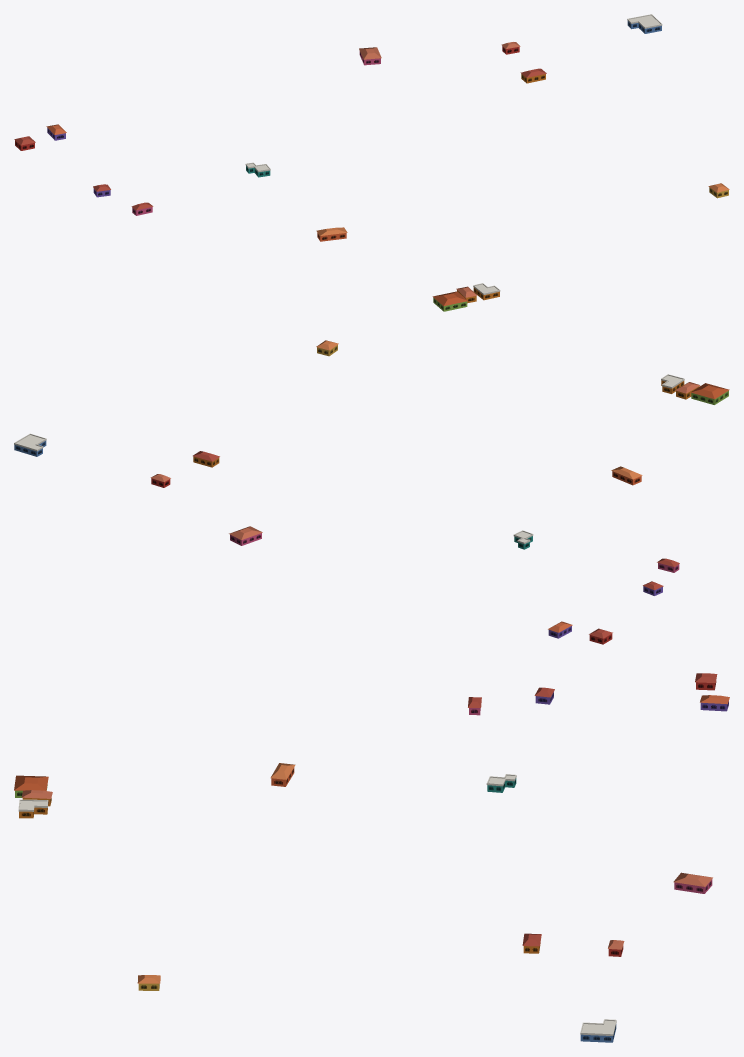
Rendered from msb_oranjestad_m17_m4.glb.
3 renders of one model, top to bottom at view 1: azimuth 30°, elevation 25°; view 2: azimuth 150°, elevation 25°; view 3: azimuth 270°, elevation 25°, orthographic. The views are drawn at different scales.
Parts seen in each view (by area): view 1: msb_oranjestad_m17_m4_lod0; view 2: msb_oranjestad_m17_m4_lod0; view 3: msb_oranjestad_m17_m4_lod0.
Part boxes in pixels (<box>): msb_oranjestad_m17_m4_lod0: <box>14,14,729,311</box>; msb_oranjestad_m17_m4_lod0: <box>14,340,729,644</box>; msb_oranjestad_m17_m4_lod0: <box>14,673,729,1042</box>.
Size of what is drawn, in the model's own units: 364 by 14.81 by 296.
Materials: 3 (1 with a texture image).
